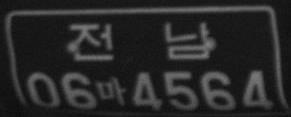0: (26, 71, 61, 108)
4: (242, 68, 273, 111), (131, 70, 162, 110)
5: (163, 70, 199, 111)
6: (199, 70, 236, 110), (62, 71, 97, 110)
마: (98, 76, 126, 106)
전남_D: (68, 20, 212, 62)
